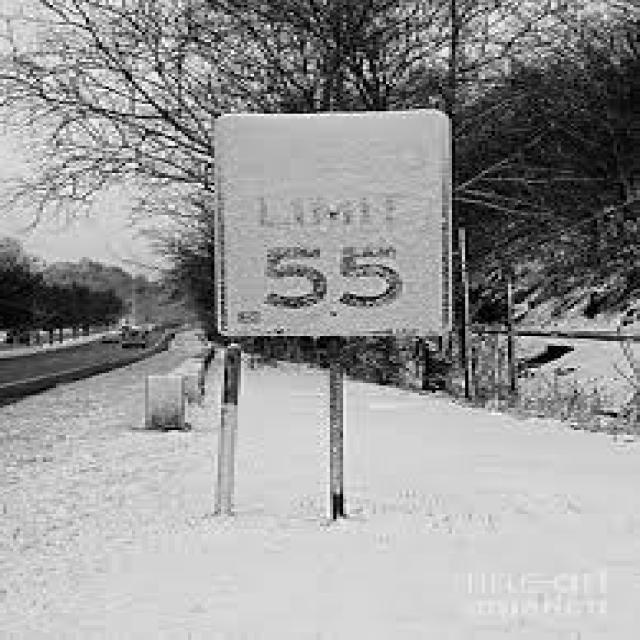speedLimit55: (214, 94, 458, 341)
